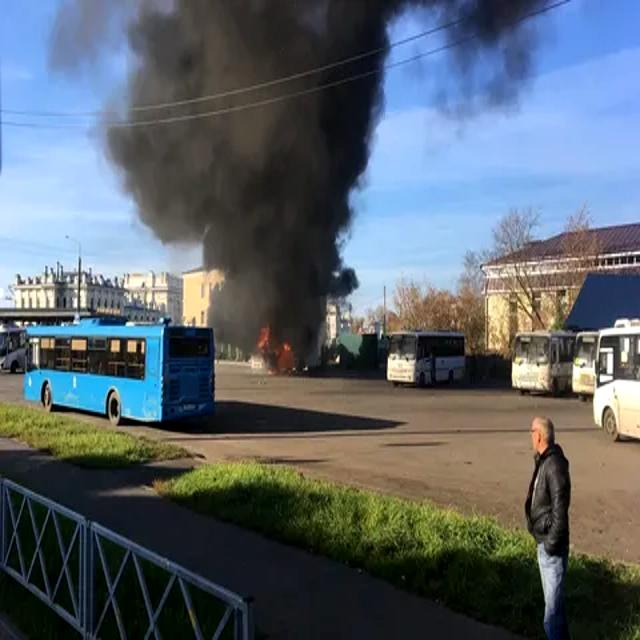no_helmet: (94, 0, 410, 336)
